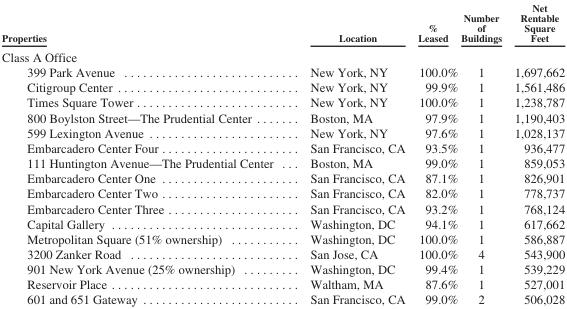table: (1, 1, 564, 306)
table column: (1, 1, 291, 306), (291, 1, 410, 306), (507, 1, 564, 306), (458, 1, 507, 306), (410, 1, 458, 306)
table column header: (1, 1, 564, 46)
table projected row header: (1, 46, 564, 64)
table row: (1, 1, 564, 46), (1, 46, 564, 64), (1, 124, 564, 140), (1, 230, 564, 246), (1, 64, 564, 79), (1, 79, 564, 94), (1, 94, 564, 109), (1, 109, 564, 124), (1, 140, 564, 155), (1, 155, 564, 170), (1, 170, 564, 185), (1, 185, 564, 200), (1, 200, 564, 215), (1, 215, 564, 230), (1, 246, 564, 261), (1, 261, 564, 276), (1, 276, 564, 291), (1, 291, 564, 306)
